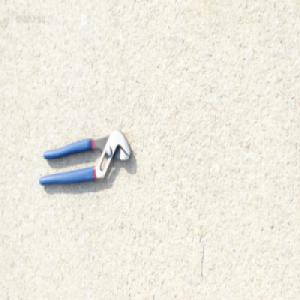Pliers: (37, 127, 132, 188)
